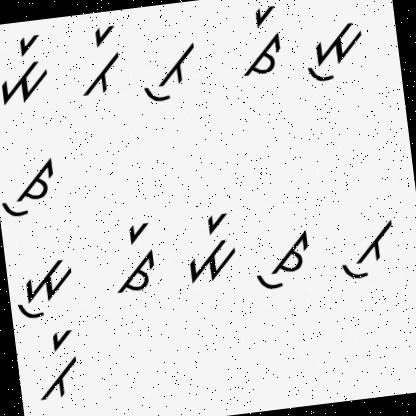bar: (72, 19, 129, 103), (30, 327, 86, 406)
baw: (134, 32, 203, 104), (332, 212, 398, 283)
car: (230, 4, 288, 78), (108, 220, 164, 294)
caw: (0, 149, 67, 223), (251, 224, 317, 294)
mar: (179, 209, 242, 288), (0, 31, 57, 105)
maw: (300, 6, 374, 87), (8, 254, 82, 322)
